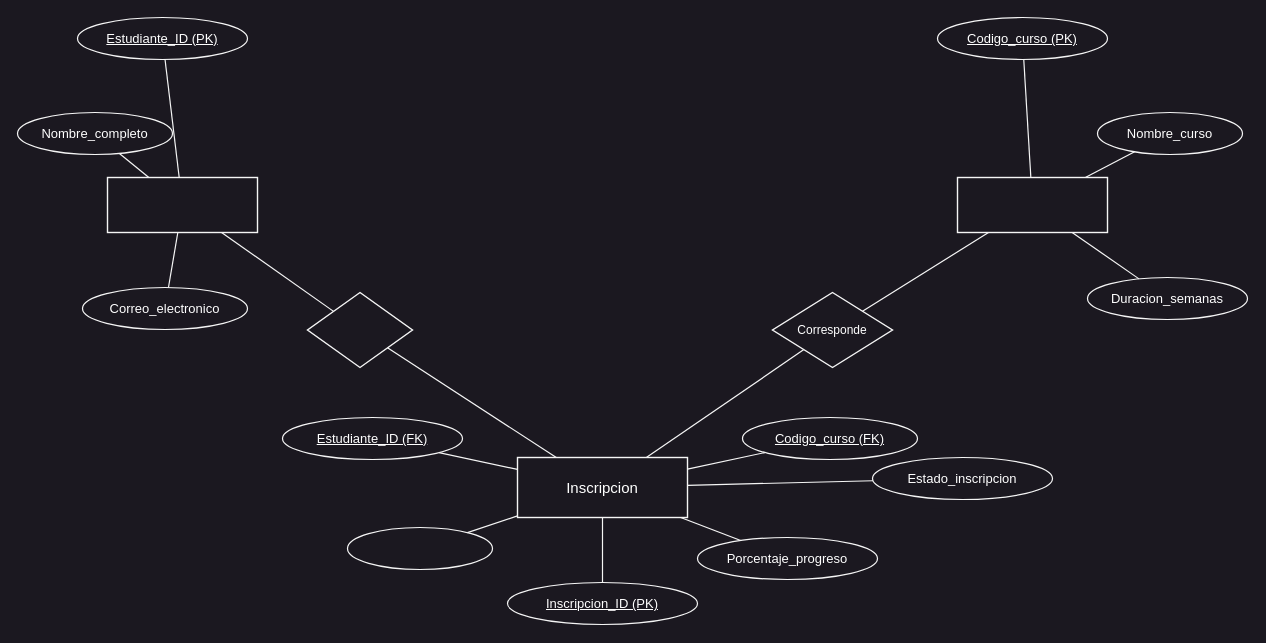
Some shapes in this 1266 by 643 pixel diagram are drawn without their labels. The centre of each missing label's shape, as x and y in pixels:
"Cursos" belongs at point (1032, 204).
"Estudiantes" belongs at point (182, 204).
"Fecha_inicio" belongs at point (419, 548).
"Realiza" belongs at point (359, 329).
